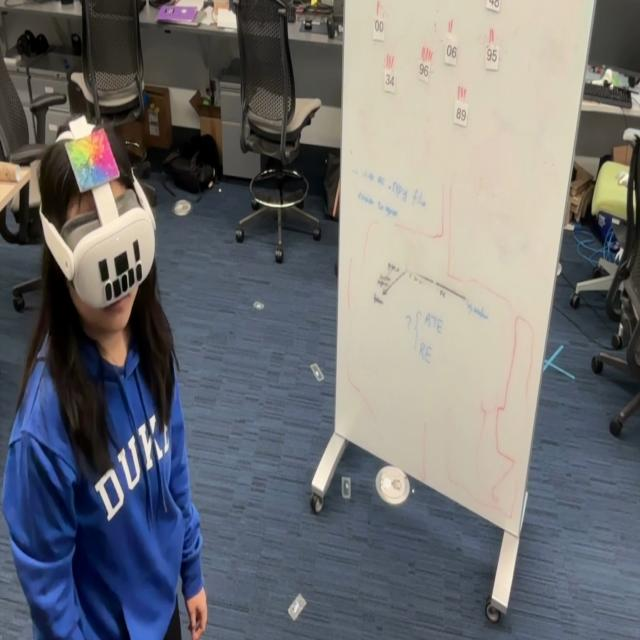Headset: (38, 124, 156, 310)
Marker: (63, 124, 121, 194)
